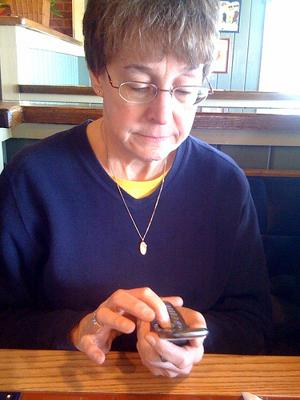person: (2, 3, 270, 381)
